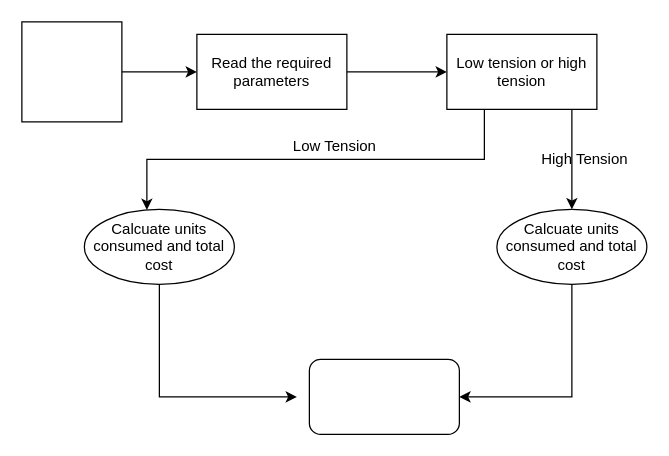
Image size: 669x456. Some labels were removed from this diagram. Each missing label, with the box of its shape:
Details of the user: (21, 21, 122, 122)
Display Bill details: (308, 358, 459, 434)
